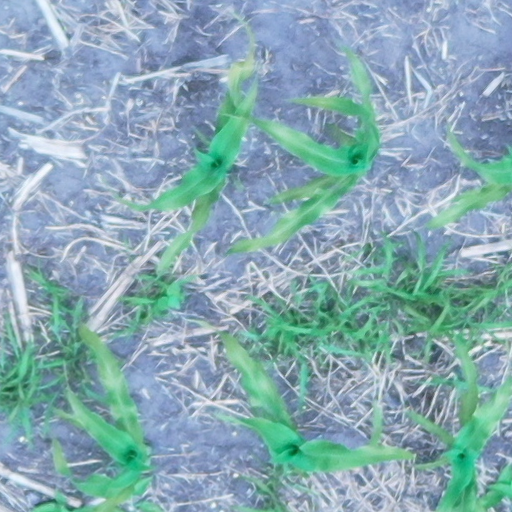planta: (109, 11, 258, 277), (225, 45, 382, 256), (211, 327, 418, 472)
